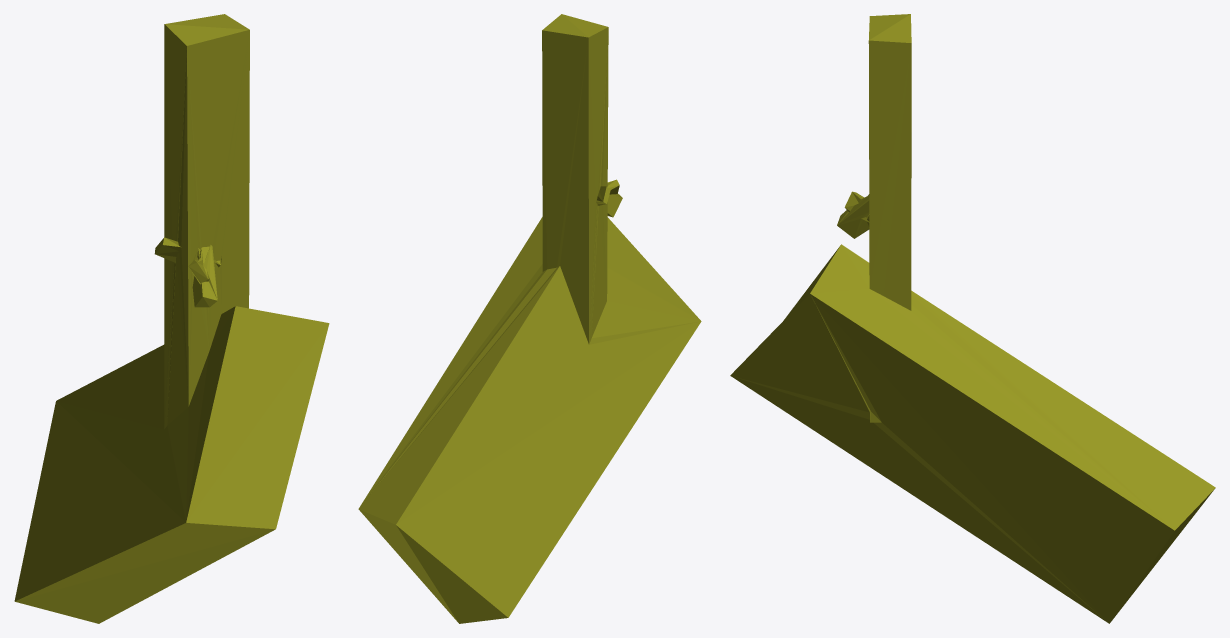
The picture shows the model from 3 angles, left to right: view 1: azimuth 30°, elevation 25°; view 2: azimuth 150°, elevation 25°; view 3: azimuth 270°, elevation 25°; orthographic projection. The views are drawn at different scales.
Parts seen in each view (by area): view 1: 001_Cube.017; view 2: 001_Cube.017; view 3: 001_Cube.017.
Part boxes in pixels (<box>): 001_Cube.017: <box>14,14,329,623</box>; 001_Cube.017: <box>358,14,701,623</box>; 001_Cube.017: <box>730,14,1215,623</box>.
Bounding box in the file's own units: 5.72 × 18.19 × 13.61.
